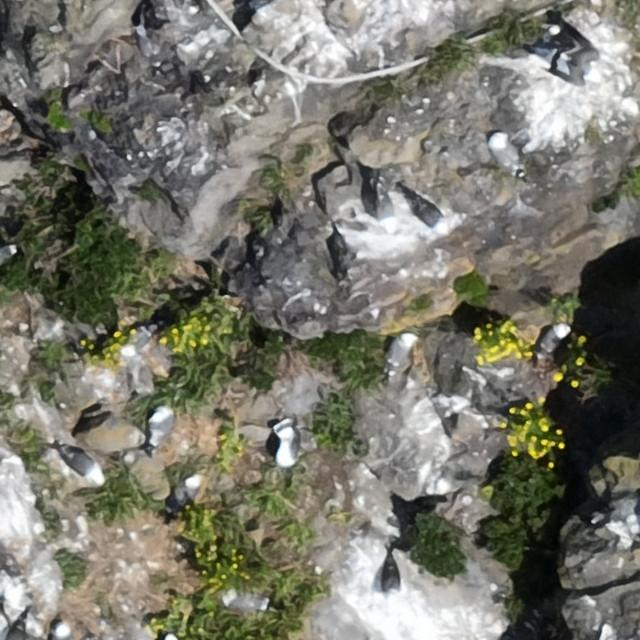umineko: (546, 35, 606, 84), (371, 177, 397, 235), (276, 420, 299, 469), (65, 450, 102, 480), (388, 334, 414, 370), (492, 137, 517, 172), (538, 323, 566, 354), (416, 201, 444, 230), (148, 408, 170, 444), (223, 592, 267, 610), (382, 561, 400, 598), (182, 474, 200, 504), (51, 622, 71, 639), (0, 243, 12, 263)
